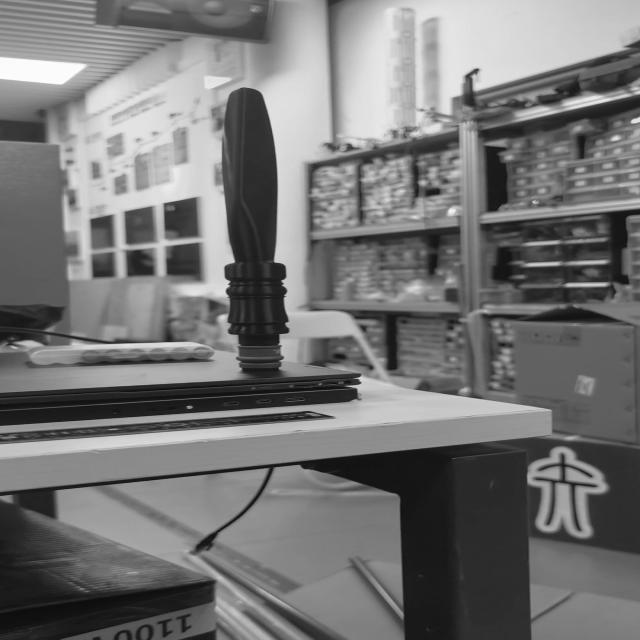base: (234, 344, 286, 370)
